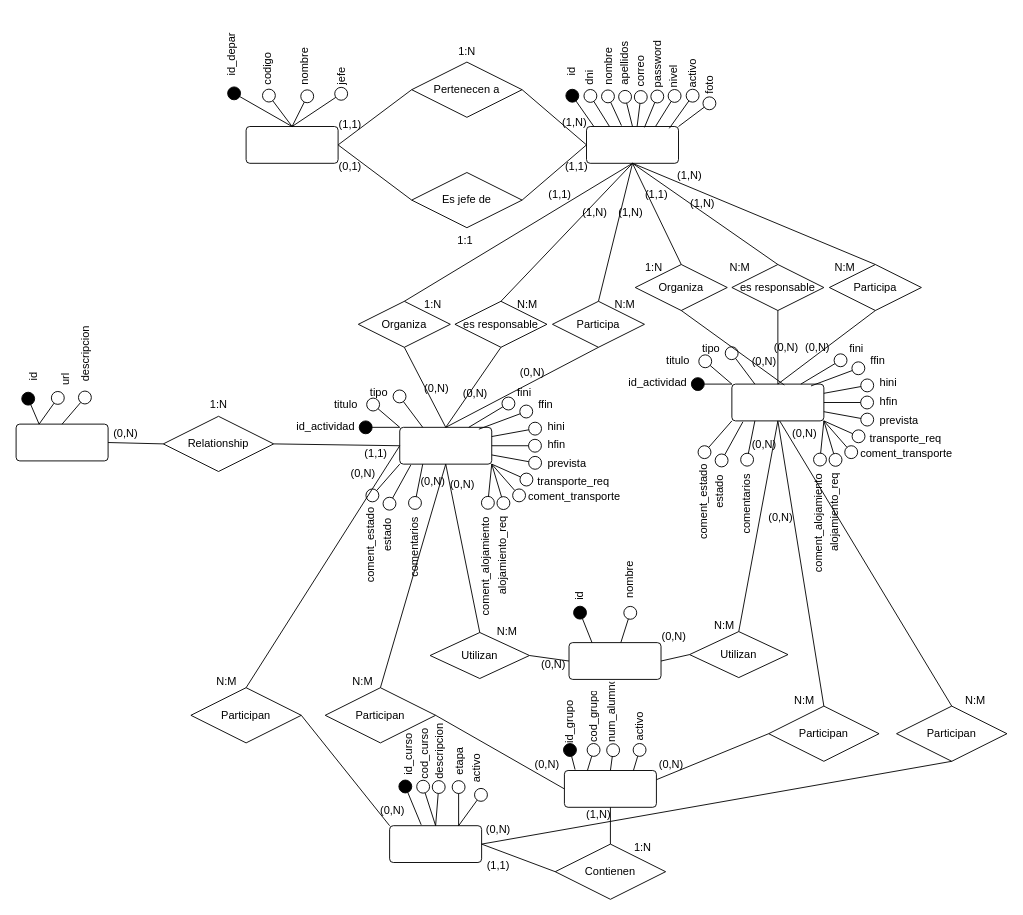
This 1023x915 diagram has some shape labels left out. Here are the shapes that lost their labels. From the top down, the centre of each, then its label:
At point (291, 144): "Departamentos".
At point (632, 144): "Profesores".
At point (777, 402): "Actividades".
At point (61, 442): "Imagenes".
At point (445, 445): "Programadas".
At point (614, 660): "MediosTransporte".
At point (610, 788): "Grupos".
At point (435, 843): "Cursos".
